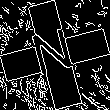N_S: (29, 25, 81, 85)
